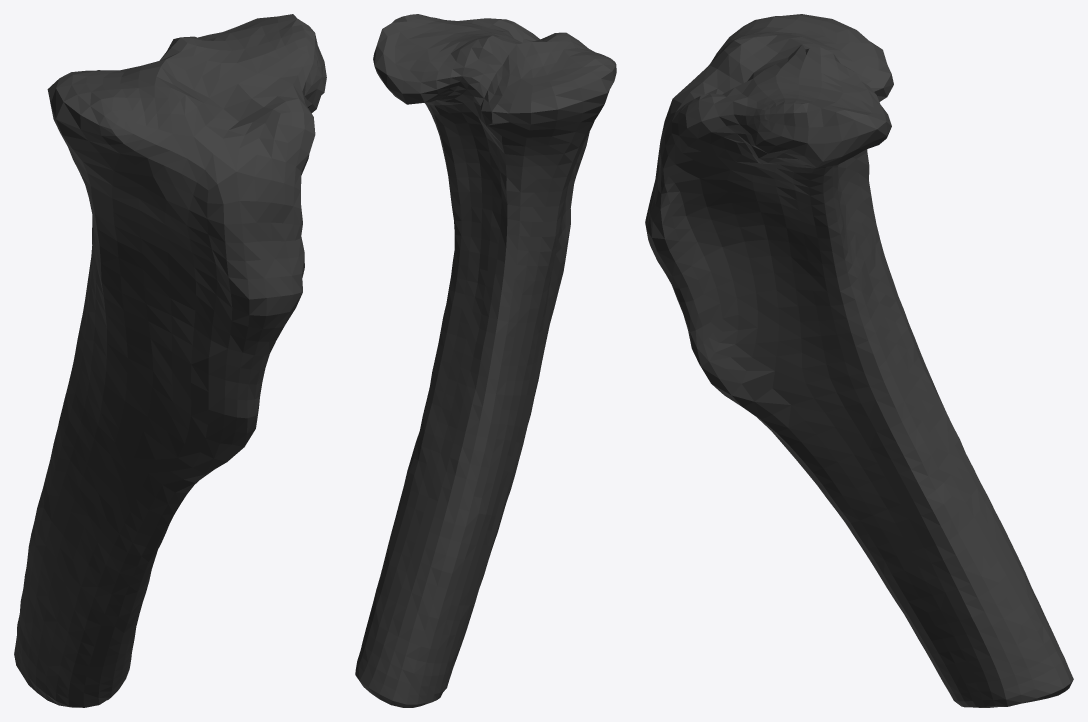
File: Tibia.glb
The picture shows the model from 3 angles, left to right: view 1: azimuth 30°, elevation 25°; view 2: azimuth 150°, elevation 25°; view 3: azimuth 270°, elevation 25°; orthographic projection. The views are drawn at different scales.
Parts seen in each view (by area): view 1: Tibia; view 2: Tibia; view 3: Tibia.
Boxes of the visible parts, left/top/right/bottom form: Tibia: left=14, top=14, right=326, bottom=707; Tibia: left=355, top=14, right=616, bottom=707; Tibia: left=645, top=14, right=1073, bottom=707.
Size of the model in its own units: 0.3612 by 0.9357 by 0.5489.
1 material, 1 textured.
